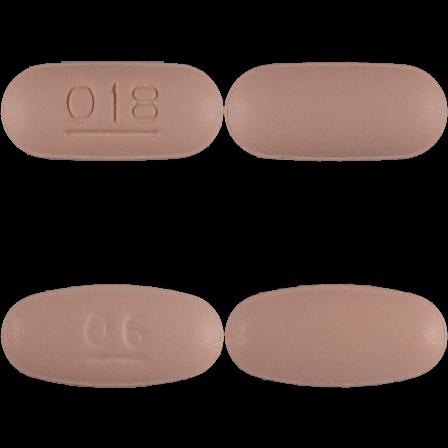0615-5619: (0, 0, 224, 224)
